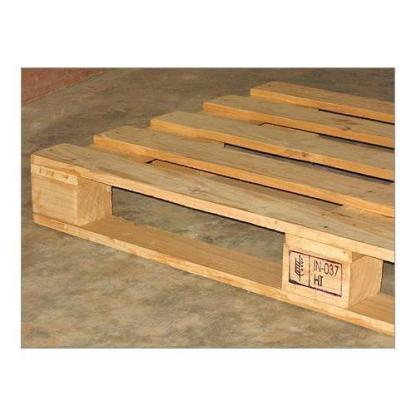BoxFace: (27, 80, 395, 340)
